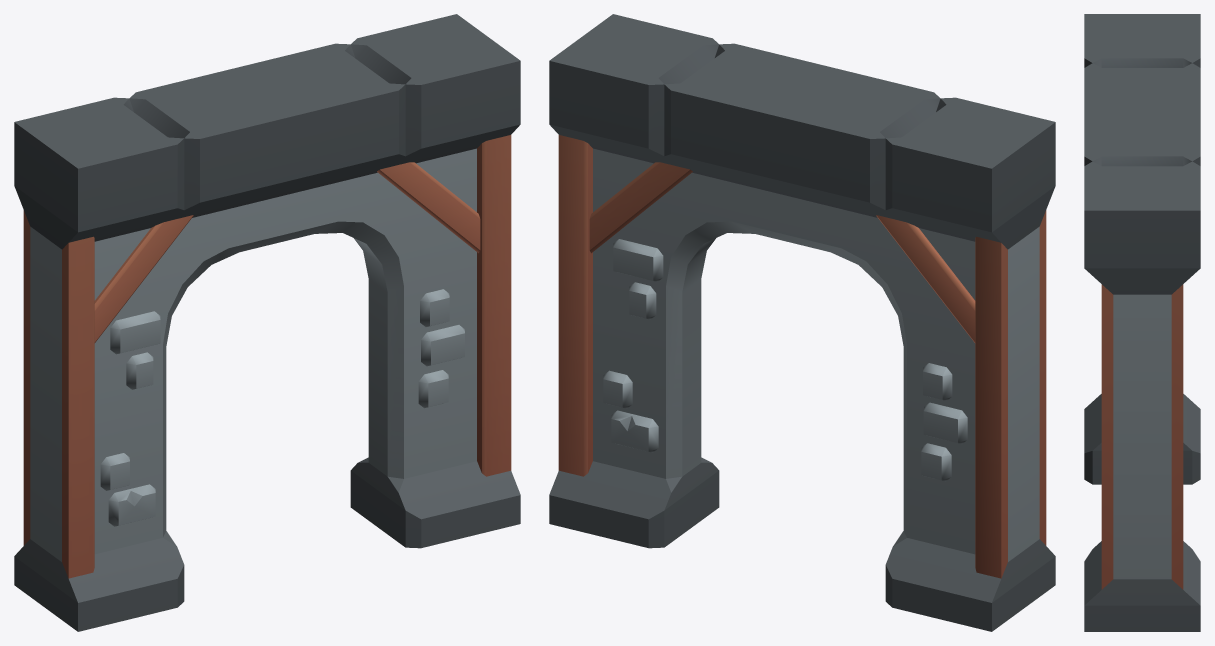
Rendered from wall_doorway_scaffold.gltf.
3 views of the same model, side by side, from view 1: azimuth 30°, elevation 25°; view 2: azimuth 150°, elevation 25°; view 3: azimuth 270°, elevation 25° (orthographic). The views are drawn at different scales.
Visible parts, largest first — view 1: wall_doorway_scaffold; view 2: wall_doorway_scaffold; view 3: wall_doorway_scaffold.
Boxes of the visible parts, left/top/right/bottom form: wall_doorway_scaffold: left=14, top=14, right=520, bottom=631; wall_doorway_scaffold: left=549, top=14, right=1055, bottom=631; wall_doorway_scaffold: left=1084, top=14, right=1200, bottom=631.
Size of the model in its own units: 4 by 4 by 1.
1 material, 1 textured.
